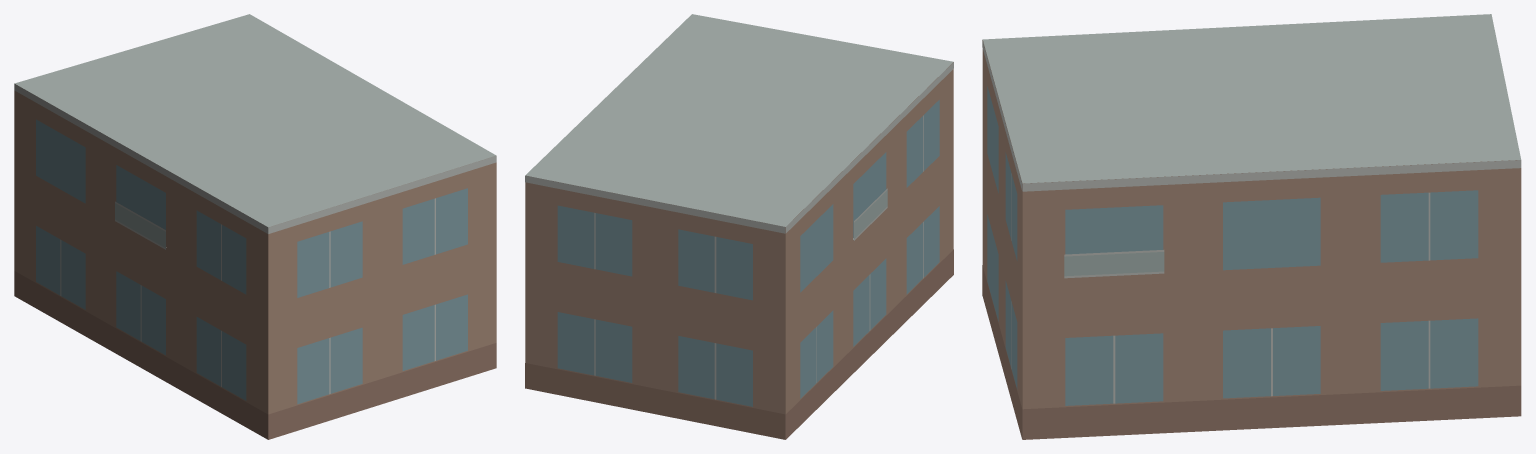
Rendered from survey-upis-32637578.glb.
The picture shows the model from 3 angles, left to right: view 1: azimuth 30°, elevation 25°; view 2: azimuth 150°, elevation 25°; view 3: azimuth 270°, elevation 25°; orthographic projection. The views are drawn at different scales.
Visible parts, largest first — view 1: survey-upis-32637578.tmp; view 2: survey-upis-32637578.tmp; view 3: survey-upis-32637578.tmp.
Boxes of the visible parts, x1,y1,x2,y2 form: survey-upis-32637578.tmp: [14, 14, 496, 439]; survey-upis-32637578.tmp: [525, 14, 953, 439]; survey-upis-32637578.tmp: [982, 14, 1521, 439].
Bounding box in the file's own units: 10.78 × 7.6 × 14.48.
